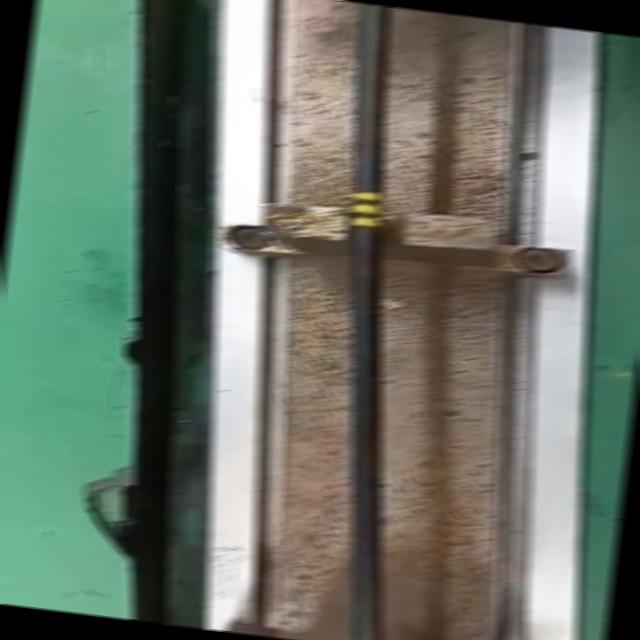yellow: (352, 188, 386, 225)
